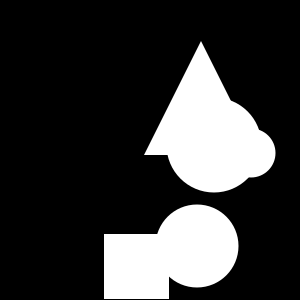circle: (104, 234, 169, 299)
rectangle: (167, 98, 262, 192), (156, 204, 238, 288), (226, 128, 276, 178)
triangle: (144, 41, 258, 155)
